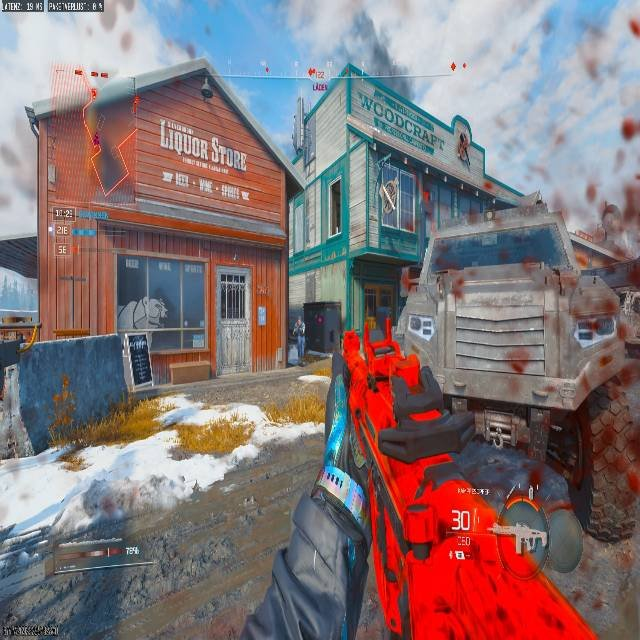player: (290, 317, 306, 355)
